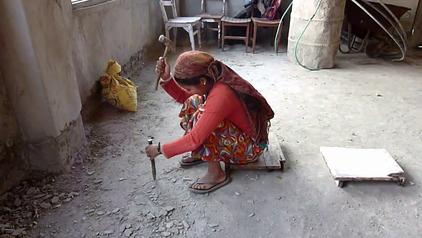stay: (145, 138, 158, 172)
